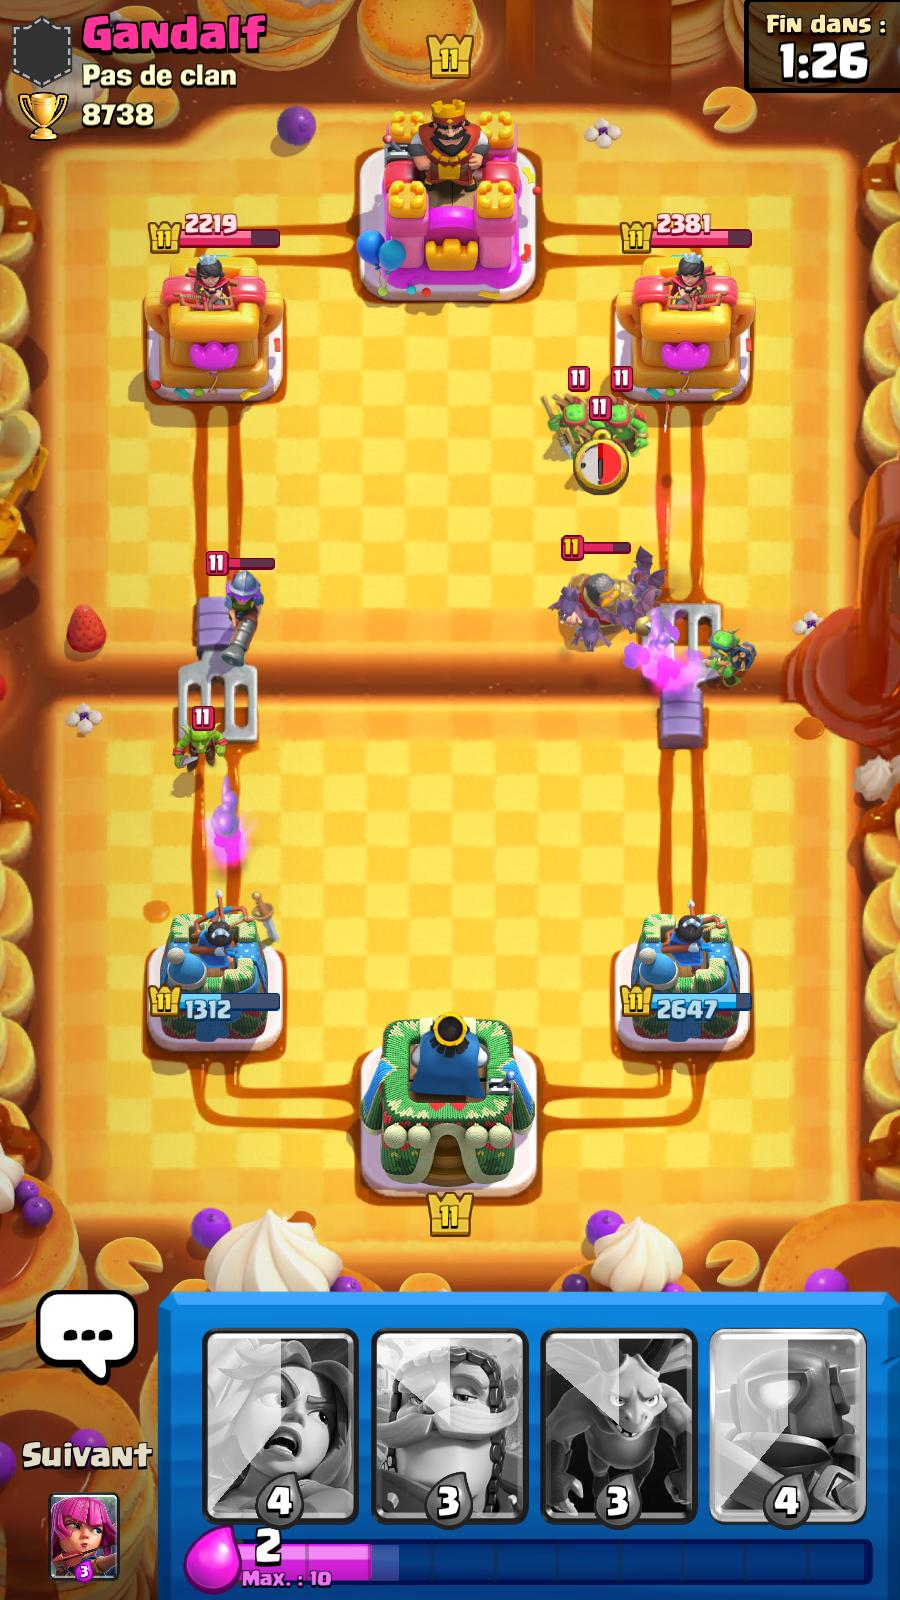bat: (624, 543, 665, 600), (568, 613, 613, 659), (615, 604, 652, 644), (552, 584, 582, 623)
chevalier: (551, 552, 637, 647)
gobelin: (158, 699, 235, 778), (696, 619, 757, 691)
gobelin_lances: (571, 419, 626, 493), (540, 387, 599, 451), (601, 387, 647, 457)
mousquetaire: (198, 542, 289, 668)
